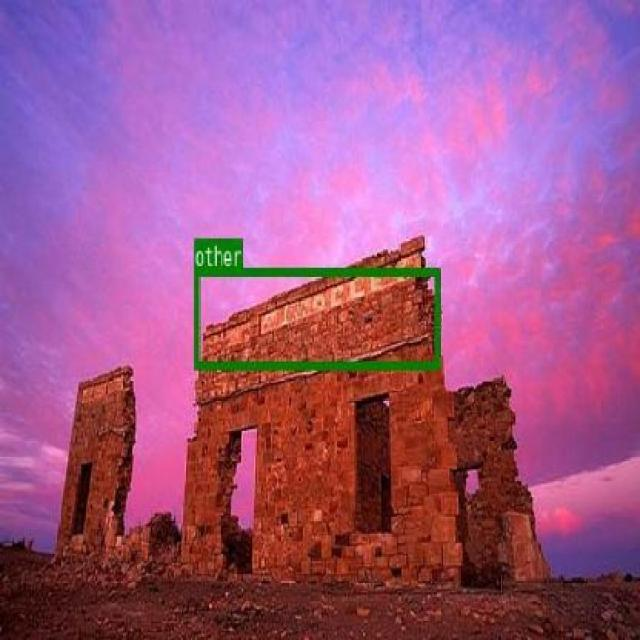other: (192, 268, 438, 368)
